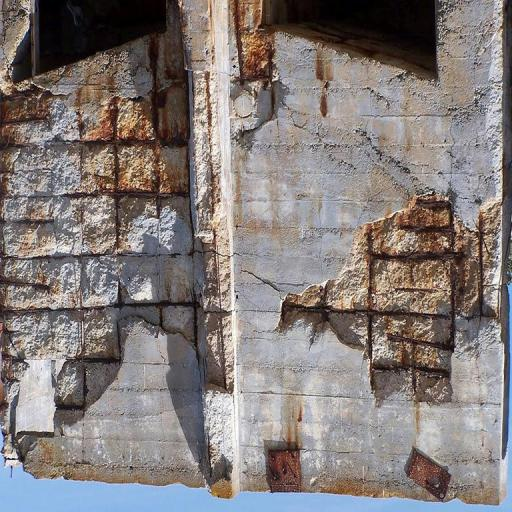spalling: (0, 25, 212, 458), (276, 187, 502, 411), (230, 2, 285, 153)
